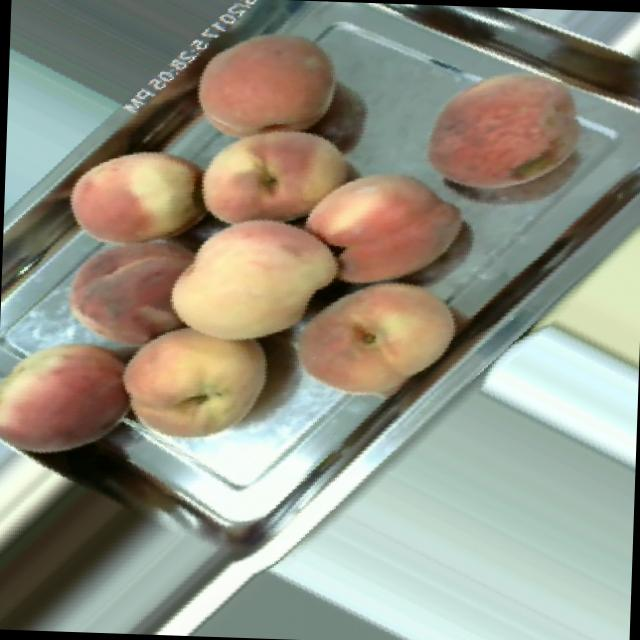Fruit: (406, 41, 608, 218), (274, 257, 477, 430), (287, 145, 483, 288), (102, 320, 286, 470), (160, 216, 356, 356), (52, 125, 229, 258), (180, 12, 358, 144), (178, 109, 368, 227), (0, 322, 153, 459), (50, 234, 209, 362)
